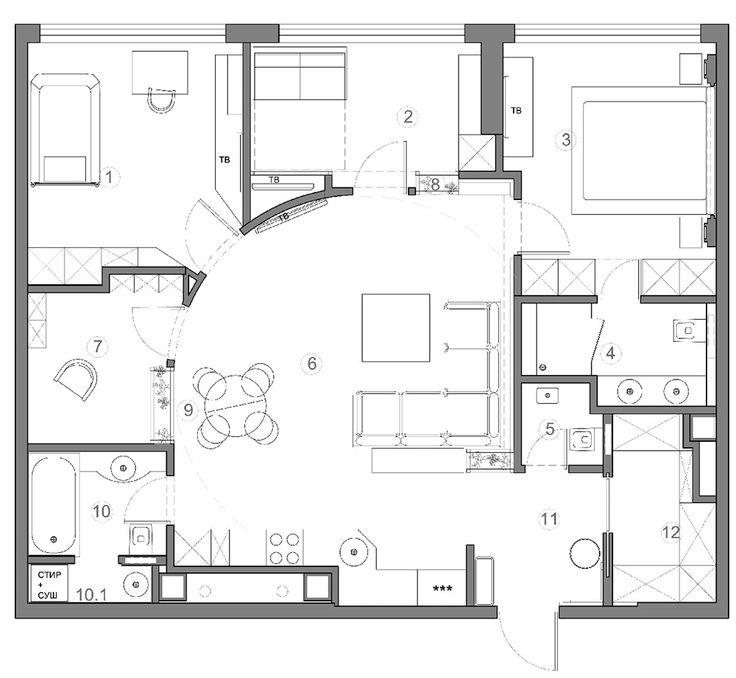bathroom: (523, 304, 716, 406), (26, 450, 167, 558)
bedroom: (502, 40, 719, 295), (29, 42, 246, 283), (251, 43, 496, 220)
children_room: (28, 274, 182, 445)
hallway: (475, 472, 605, 606)
kitchen: (175, 474, 468, 608)
living_room: (173, 177, 514, 474)
toilet: (522, 384, 604, 465)
utility_room: (28, 564, 154, 602)
walk_in_closet: (611, 415, 716, 605)
